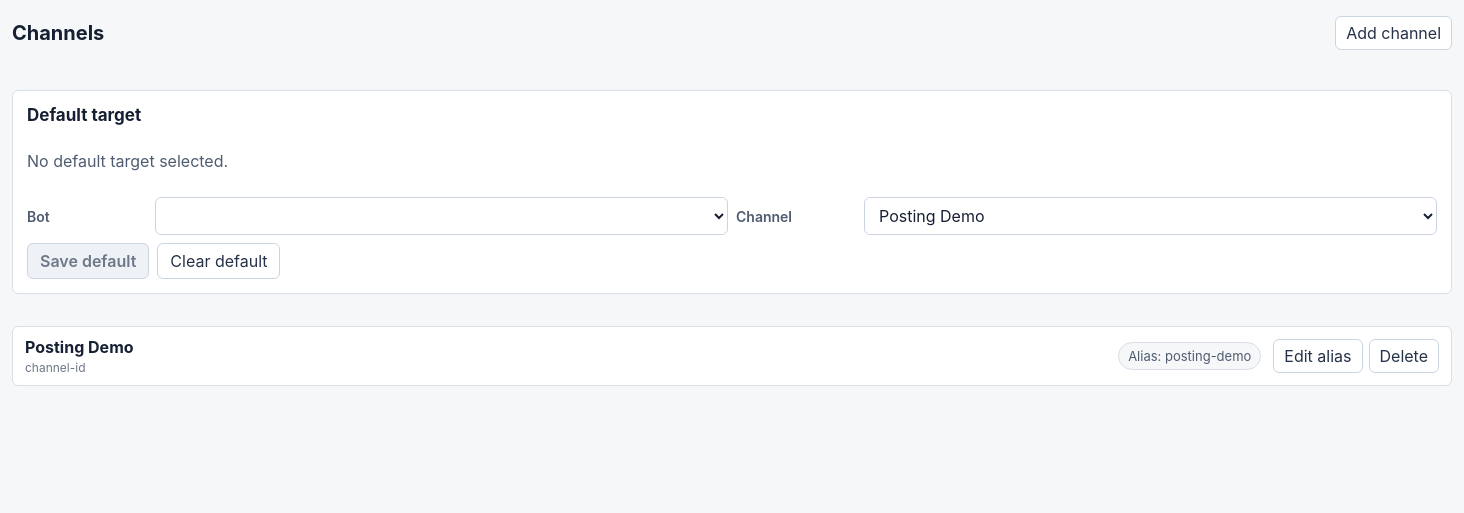
Scenario: TargetsPage › deletes a channel after confirmation
Click the button with aria-label "Delete posting-demo".
click(1404, 356)  # box [1368,339,1439,373]
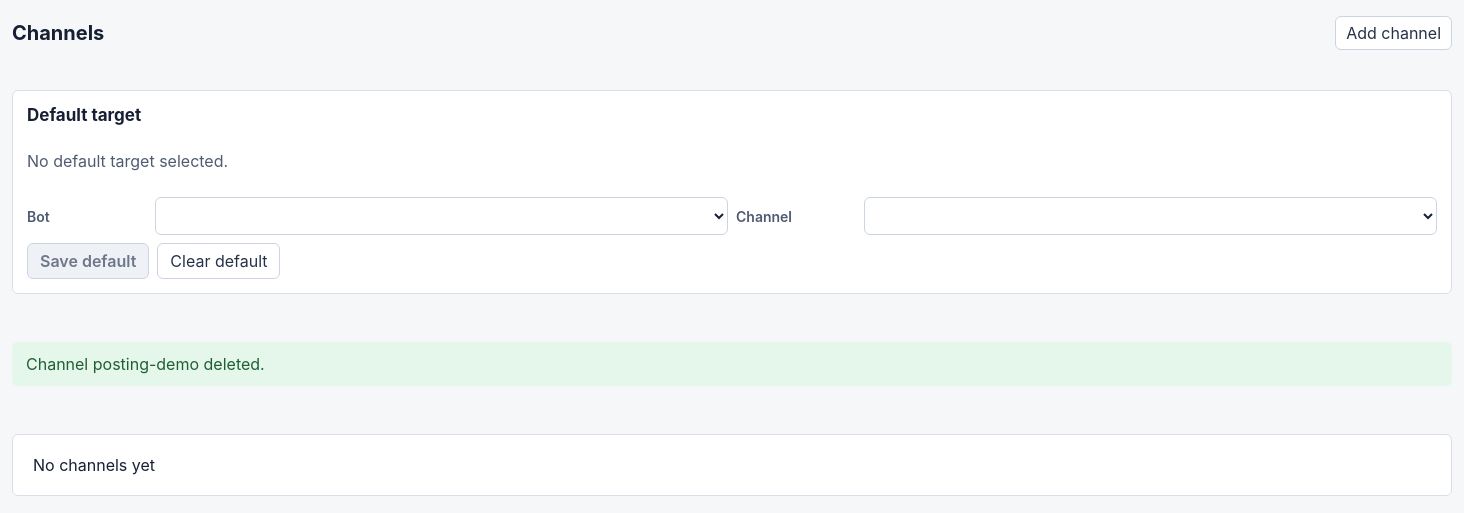
Result: the text "Posting Demo" is gone
Result: the message reads "Channel posting-demo deleted." at [26,354,265,374]
